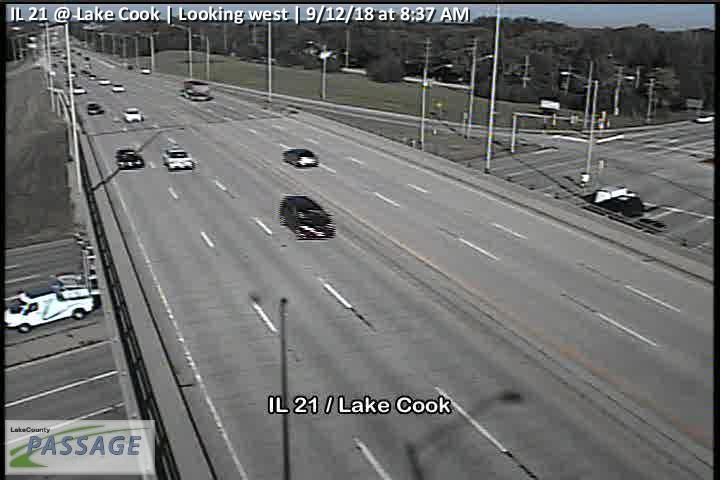SUV: (279, 195, 336, 240), (162, 145, 194, 171)
Sedan: (282, 148, 319, 167), (115, 149, 143, 170)
Truck: (3, 274, 97, 333)
